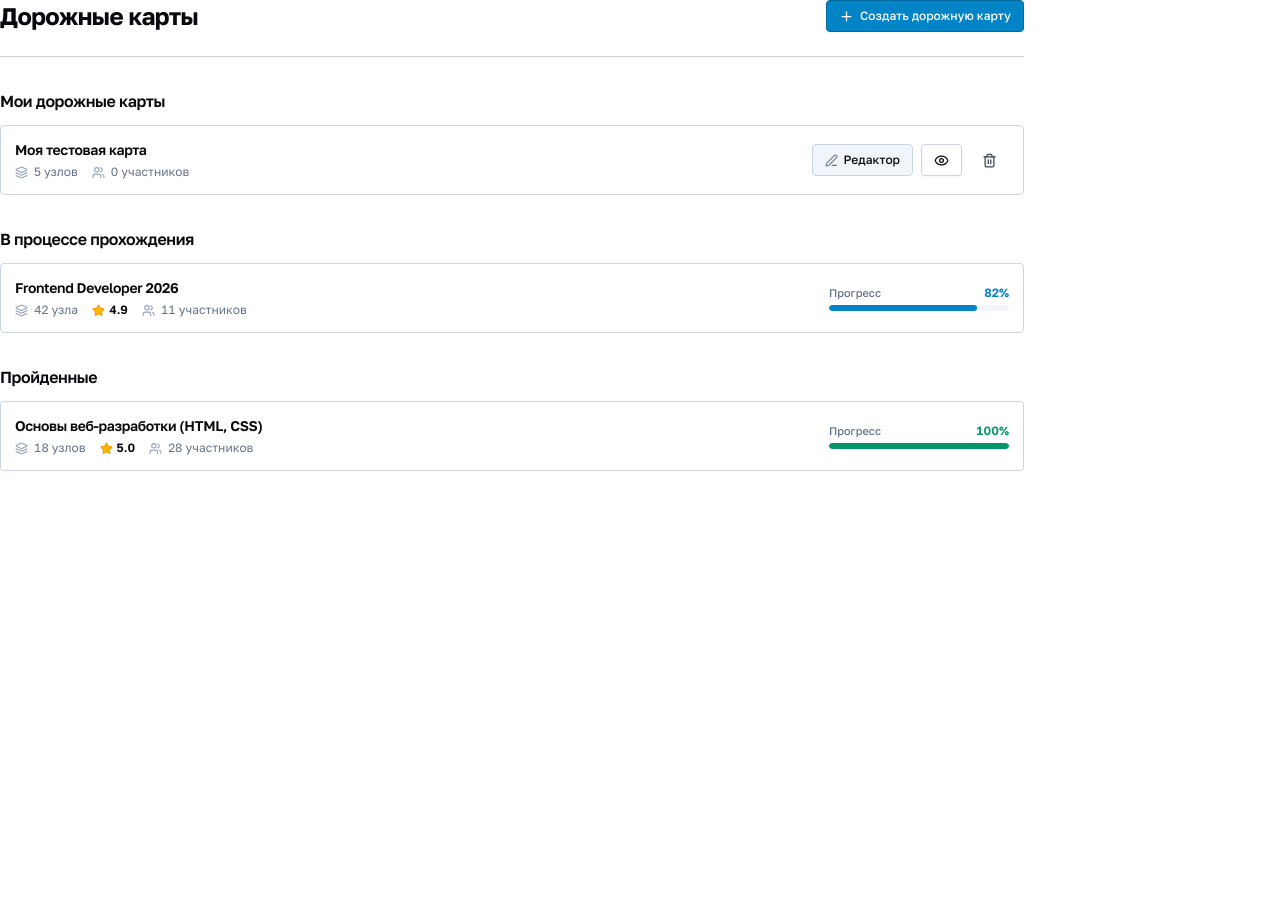
Test case: ProfileRoadmapsPage › opens confirmation modal and deletes roadmap on confirm
This screenshot has width=1280, height=900.
Later steps or results of the test are not shown.
Check: the heading "Моя тестовая карта" is shown, box [15,141,146,158]
Click the button titled "Удалить карту" at (990, 160), box [970,144,1009,176]
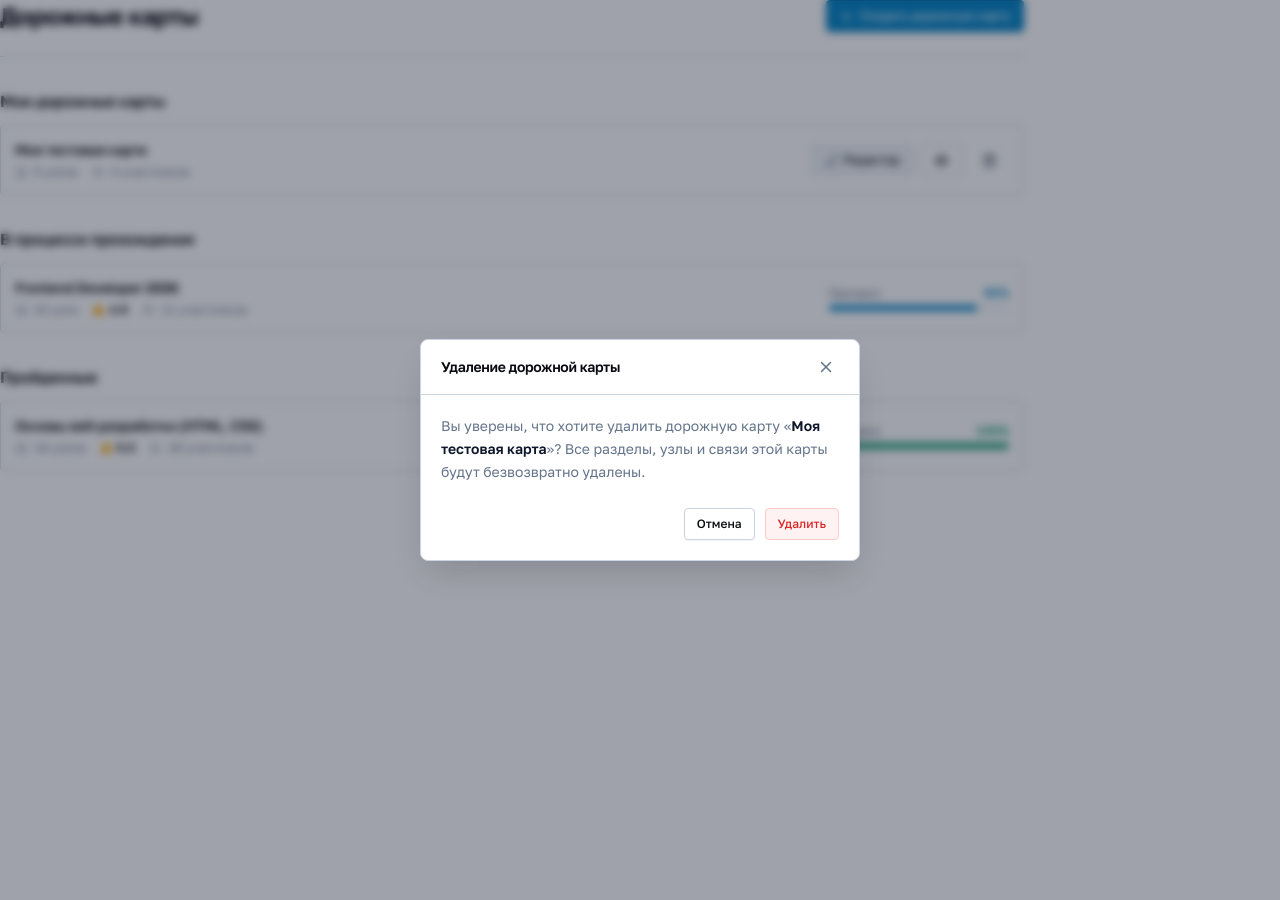
Check: the heading "Удаление дорожной карты" is shown, box [441,357,620,377]
Check: the text "Вы уверены, что хотите удалить дорожную карту" is shown, box [441,417,791,434]
